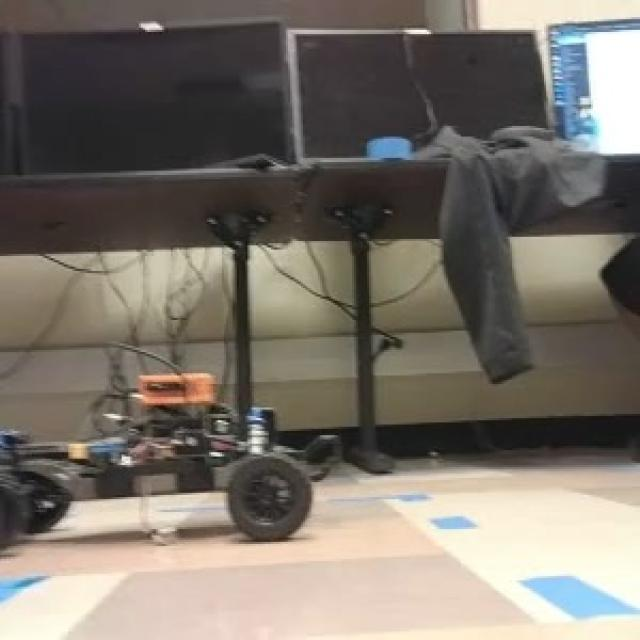obstacle: (24, 373, 314, 546)
